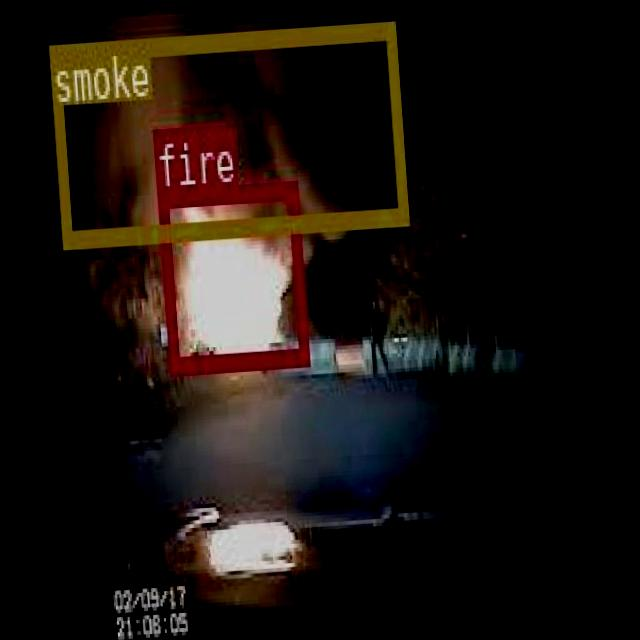fire: (156, 178, 308, 372)
smoke: (48, 20, 406, 246)
